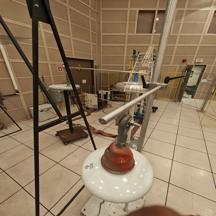insulator: (69, 137, 166, 204)
